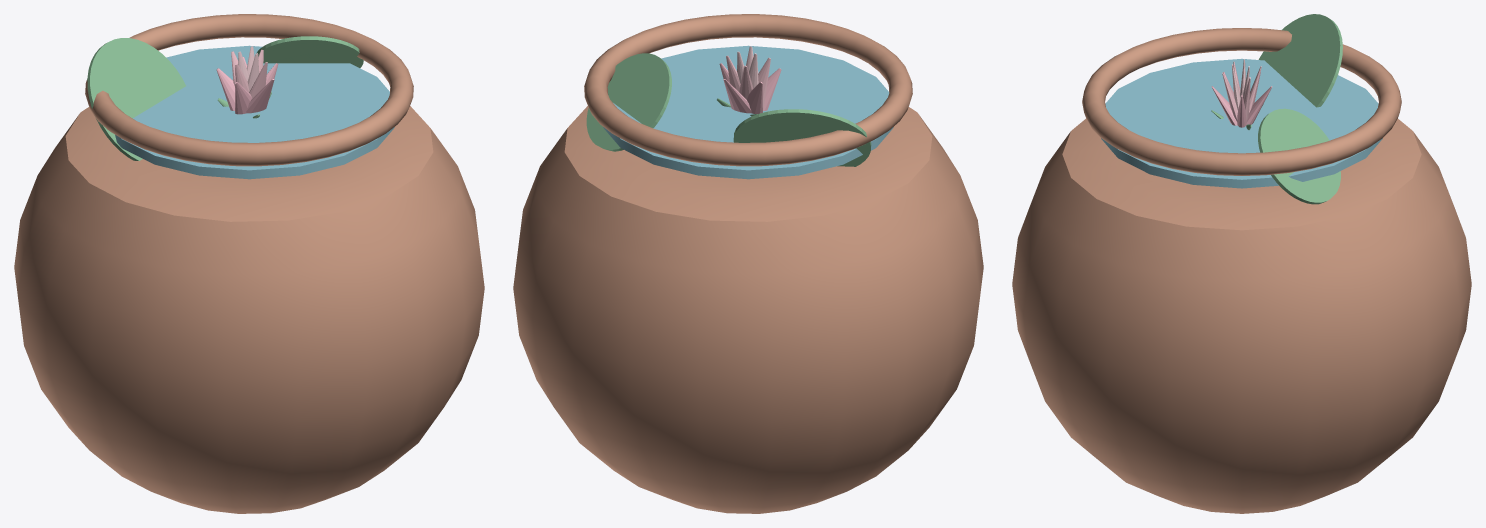
Rendered from chum_sanh_hoa_sen.glb.
3 renders of one model, left to right at view 1: azimuth 30°, elevation 25°; view 2: azimuth 150°, elevation 25°; view 3: azimuth 270°, elevation 25°, orthographic. The views are drawn at different scales.
Visible parts, largest first — view 1: chum_sanh_hoa_sen.001, chum_rim, la_1, la_2; view 2: chum_sanh_hoa_sen.001, chum_rim, la_2, la_1; view 3: chum_sanh_hoa_sen.001, chum_rim, la_1, la_2.
Boxes of the visible parts, x1=… form: chum_sanh_hoa_sen.001: x1=14, y1=45, x2=484, y2=513; chum_rim: x1=85, y1=14, x2=413, y2=166; la_1: x1=87, y1=38, x2=185, y2=160; la_2: x1=256, y1=36, x2=363, y2=67; chum_sanh_hoa_sen.001: x1=513, y1=45, x2=983, y2=513; chum_rim: x1=584, y1=14, x2=912, y2=166; la_2: x1=586, y1=53, x2=671, y2=151; la_1: x1=733, y1=109, x2=871, y2=166; chum_sanh_hoa_sen.001: x1=1012, y1=58, x2=1471, y2=513; chum_rim: x1=1082, y1=28, x2=1401, y2=175; la_1: x1=1258, y1=14, x2=1342, y2=107; la_2: x1=1258, y1=108, x2=1340, y2=204.
Size of the model in its own units: 0.48 by 0.4943 by 0.48.
